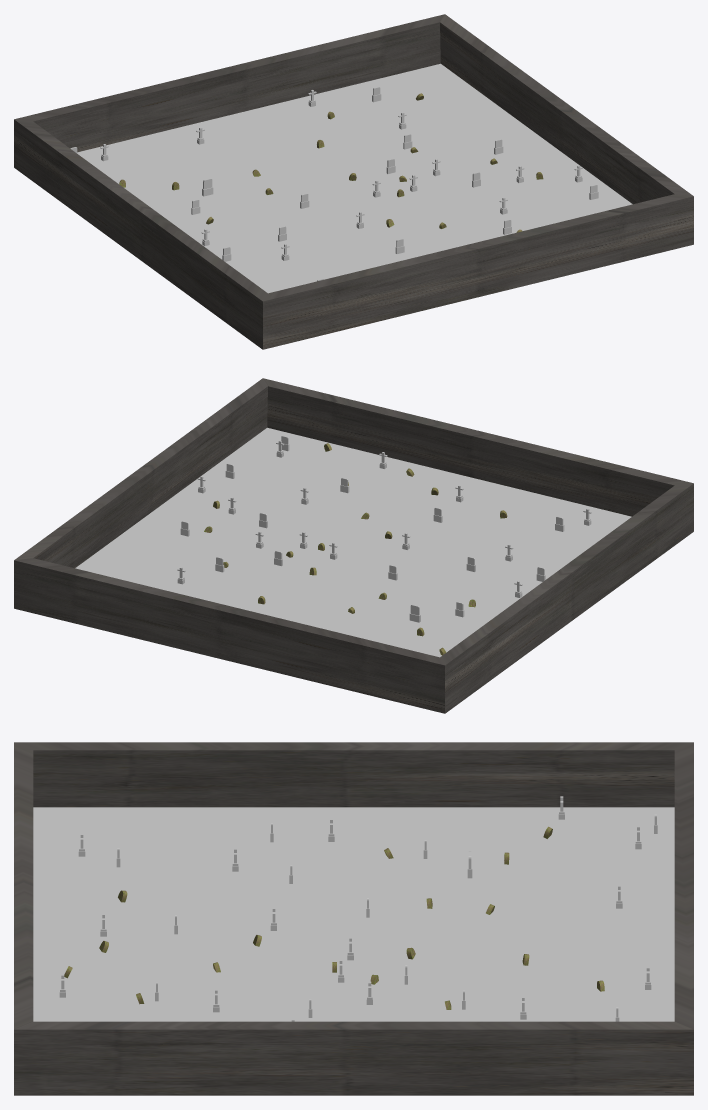
The model's file is GraveYardZombie.fbx.
3 views of the same model, one above another, from view 1: azimuth 30°, elevation 25°; view 2: azimuth 150°, elevation 25°; view 3: azimuth 270°, elevation 25° (orthographic). The views are drawn at different scales.
Visible parts, largest first — view 1: Wall, PlaneParticel.001, Plane; view 2: Wall, PlaneParticel.001, Plane; view 3: PlaneParticel.001, Wall, Plane.
Part boxes in pixels (<box>): Wall: <box>14,14,693,349</box>; PlaneParticel.001: <box>82,71,621,293</box>; Plane: <box>77,63,632,206</box>; Wall: <box>14,378,693,713</box>; PlaneParticel.001: <box>86,435,625,657</box>; Plane: <box>75,427,631,570</box>; PlaneParticel.001: <box>47,814,660,1021</box>; Wall: <box>14,742,693,1095</box>; Plane: <box>33,807,674,1021</box>.
Bounding box in the file's own units: 6000 × 643 × 6000.
